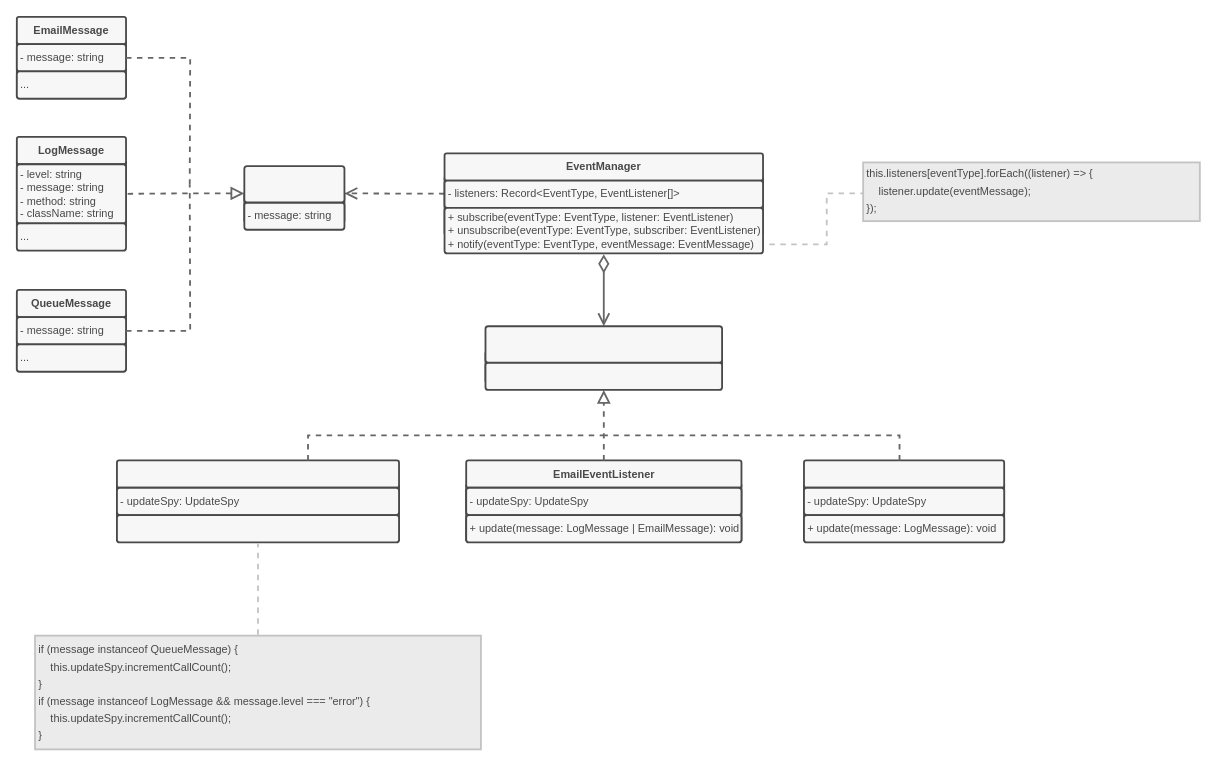
Image size: 1216x765. Some labels were removed from this diagram. The shapes that lost their labels are listed below. From the top down, each one's centre as x and y in pixels, then its label:
the point at 294,184: <<interface>> EventMessage
the point at 603,344: <<interface>> EventListener
the point at 603,375: + update(eventMessage: EventMessage): void
the point at 257,473: QueueEventListener
the point at 904,473: LogEventListener
the point at 257,528: + update(message: LogMessage | QueueMessage): void
